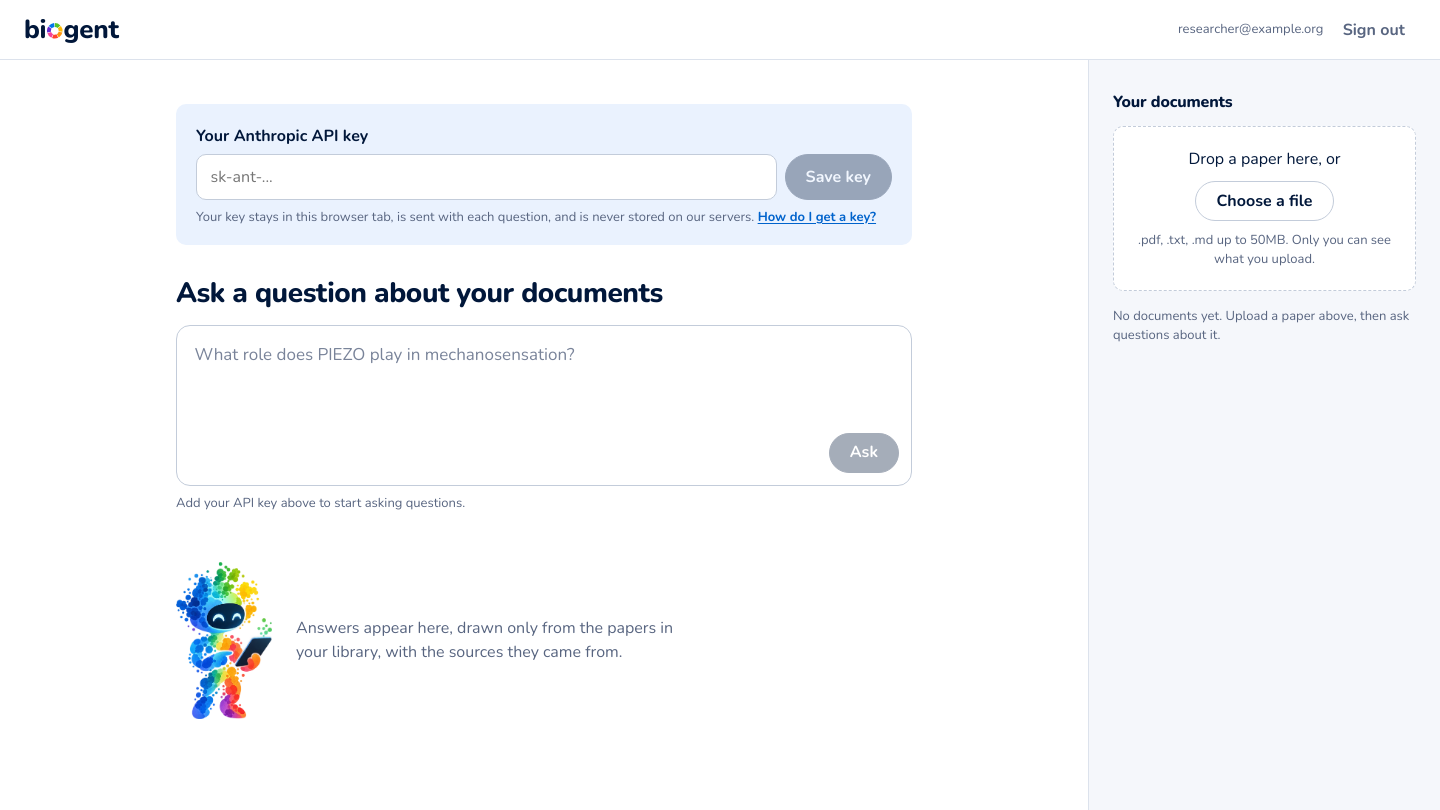
App, question history › still shows an answer that could not be saved to history
The width and height of the screenshot is (1440, 810).
Step 1. Type "sk-ant-test-key" into the password field labelled "Your Anthropic API key" → x=486, y=177, box [196,154,777,200]
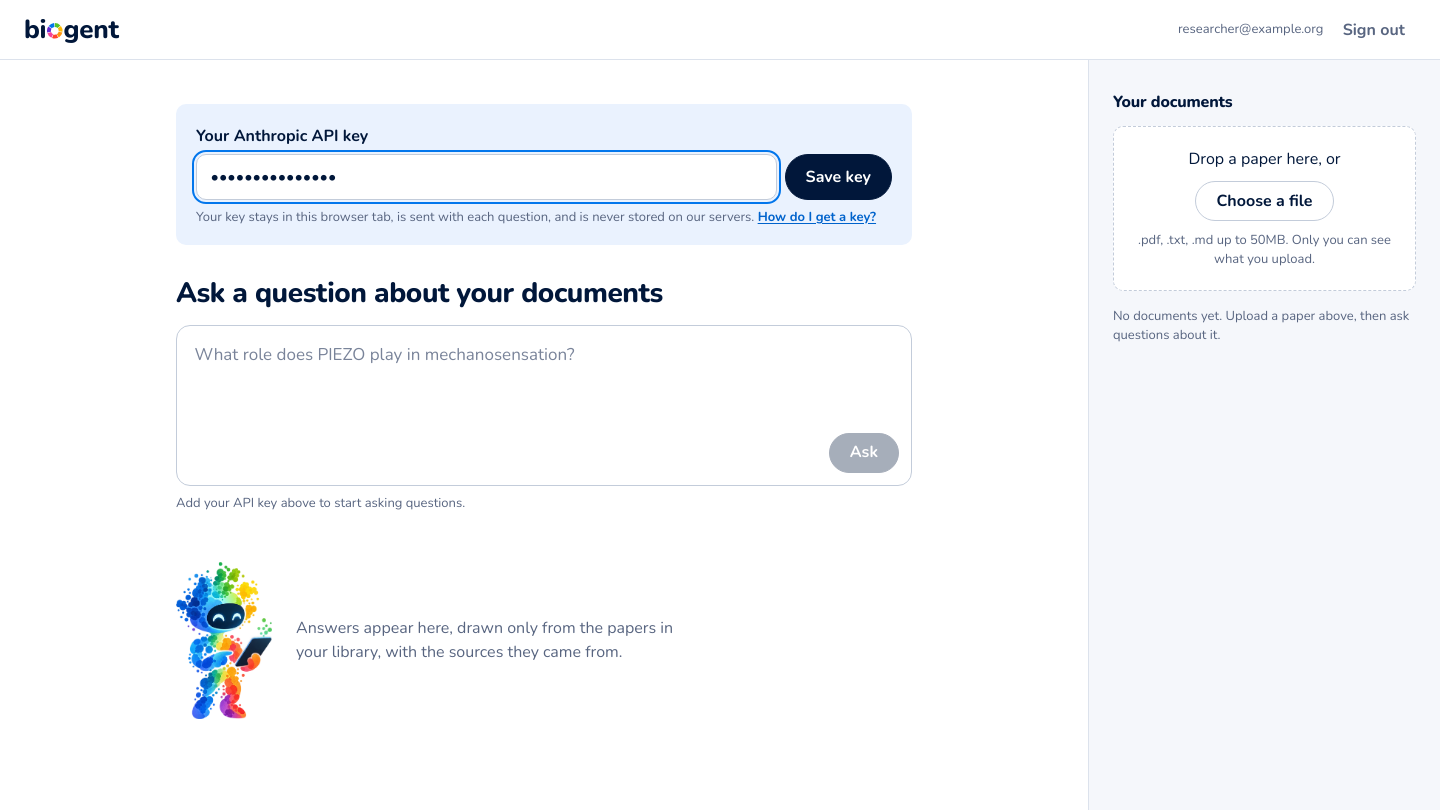
Step 2. Click the button "Save key" → x=838, y=177, box [785,154,892,200]
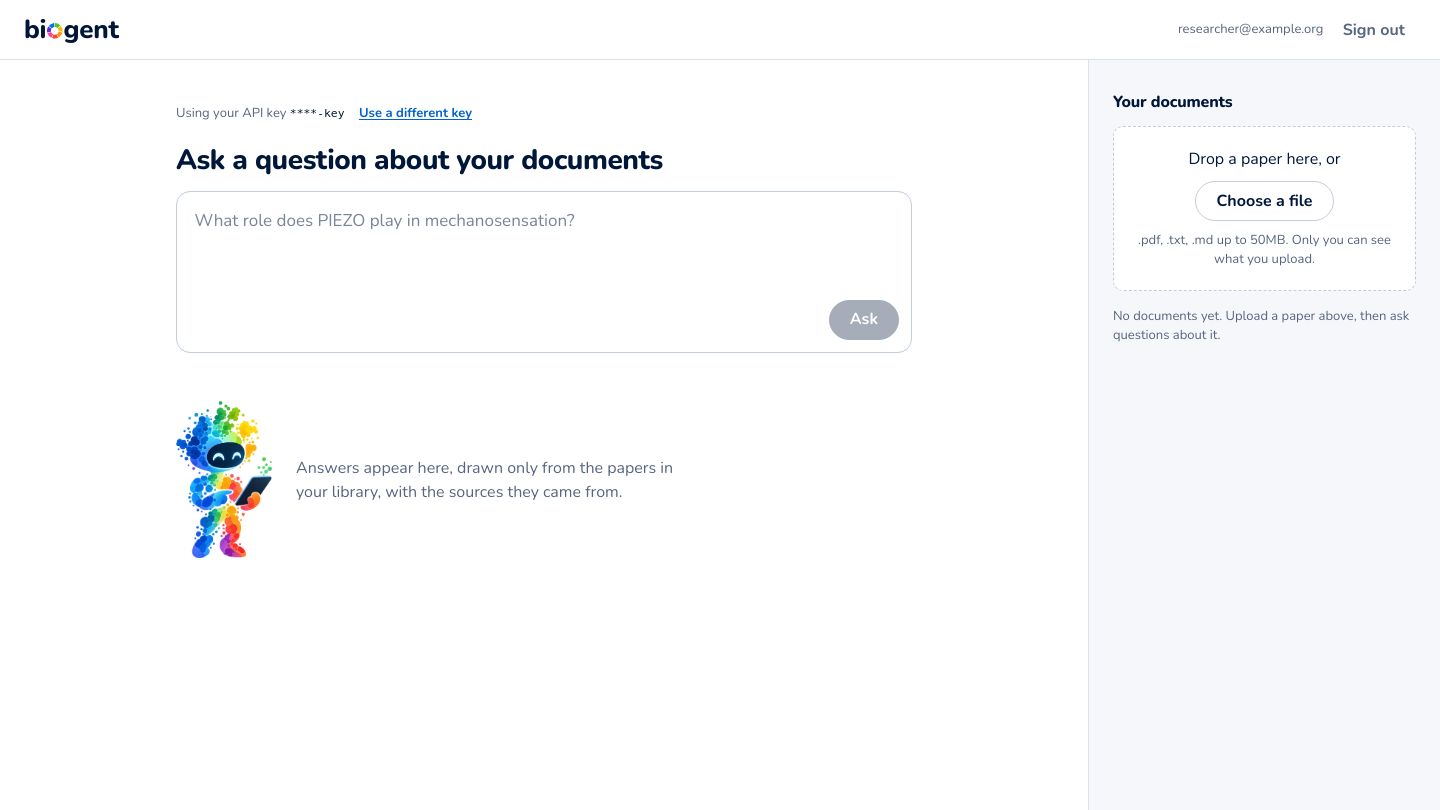
Step 3. Type "A question that will not be saved" into the text box labelled "Ask a question about your documents" → x=544, y=242, box [177,192,911,292]
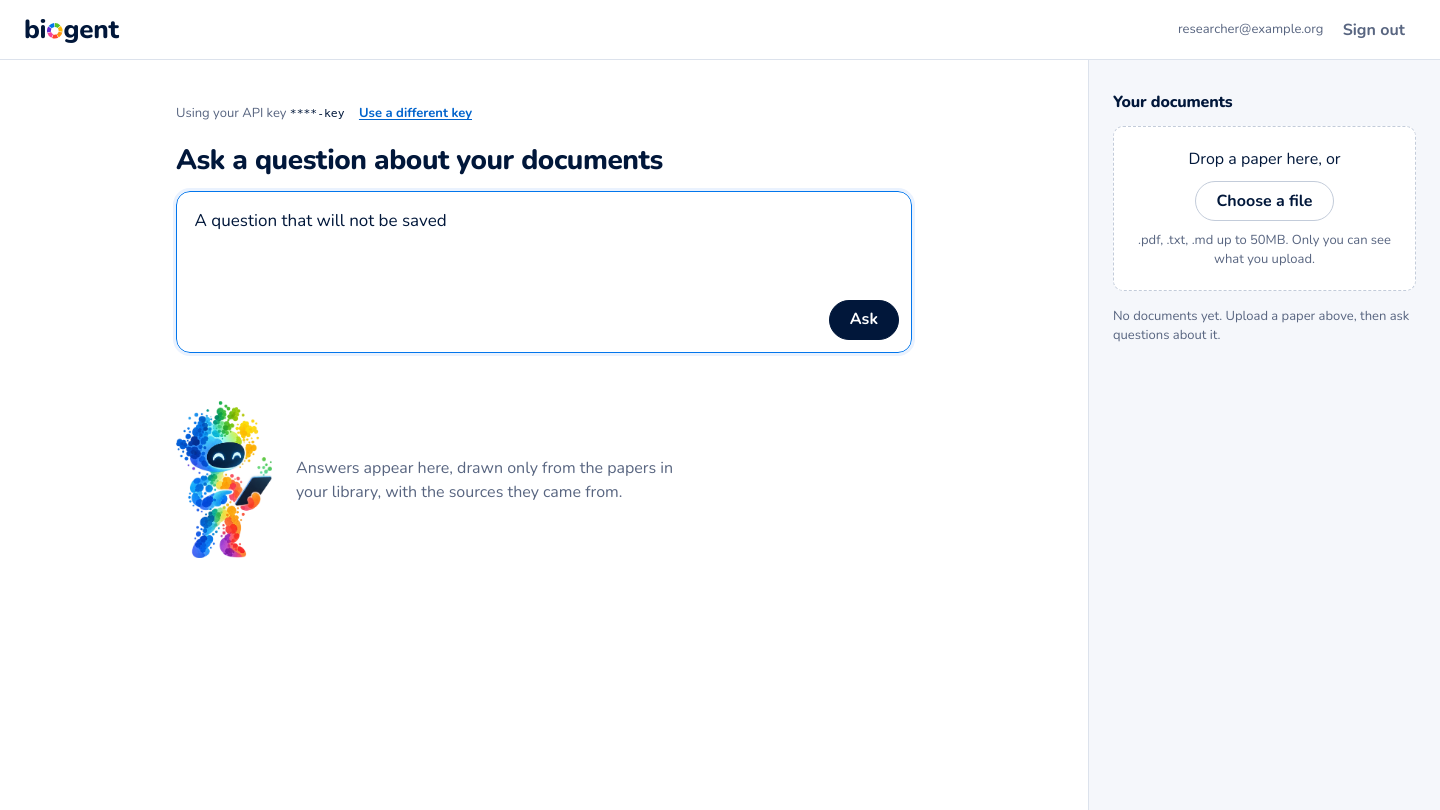
Step 4. Click the button "Ask" → x=864, y=320, box [829,300,899,340]
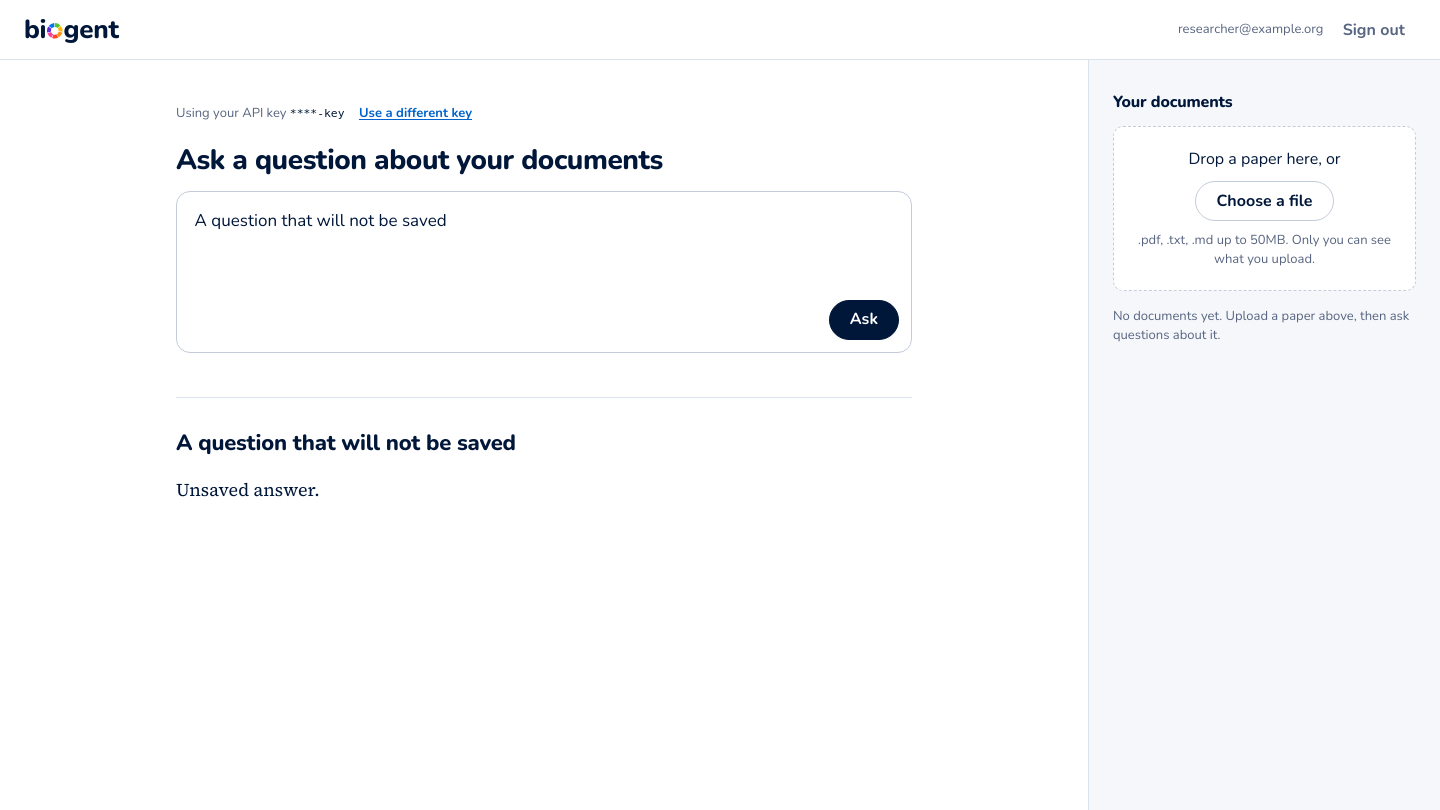
Now the text "Unsaved answer." is shown, box [176,477,320,502]
